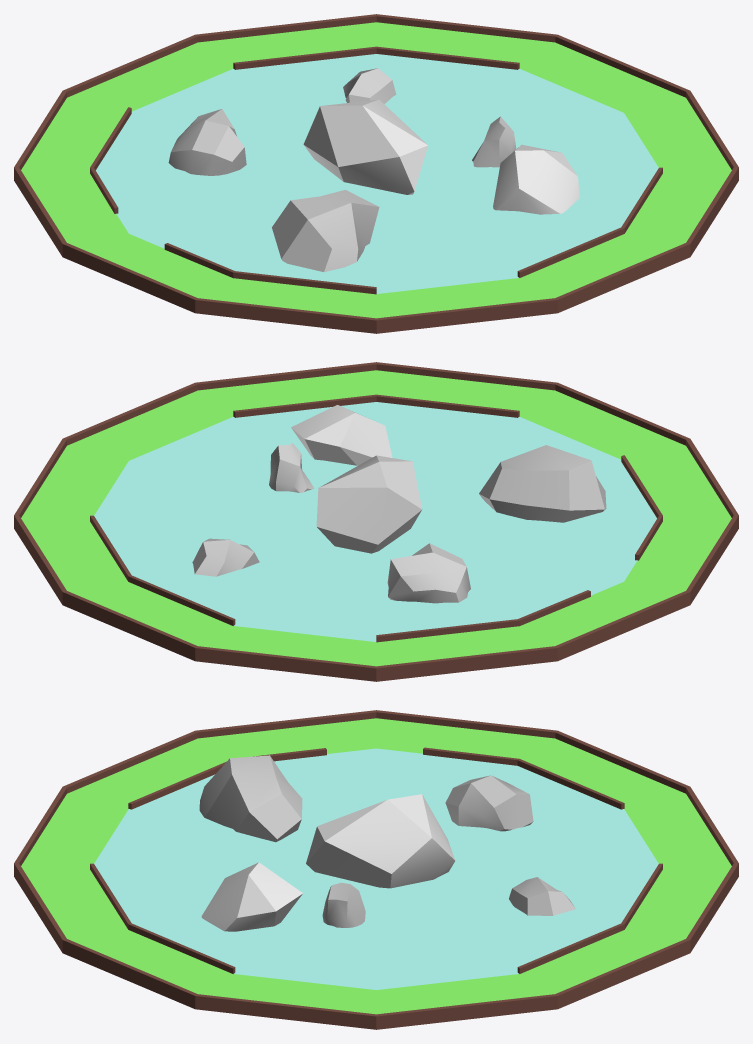
3 renders of one model, top to bottom at view 1: azimuth 30°, elevation 25°; view 2: azimuth 150°, elevation 25°; view 3: azimuth 270°, elevation 25°, orthographic.
Visible parts, largest first — view 1: Cylinder.042, Cylinder.041, Cylinder.043, rock.328, rock.327, Cylinder.044, rock.324, rock.326, rock.325, rock.323; view 2: Cylinder.042, Cylinder.041, Cylinder.043, rock.328, rock.327, Cylinder.044, rock.324, rock.326, rock.323, rock.325; view 3: Cylinder.042, Cylinder.041, Cylinder.043, rock.328, rock.327, Cylinder.044, rock.324, rock.326, rock.323, rock.325.
Boxes of the visible parts, bbox=[...] form: Cylinder.042: bbox=[96, 54, 658, 293]; Cylinder.041: bbox=[21, 22, 731, 318]; Cylinder.043: bbox=[14, 14, 738, 333]; rock.328: bbox=[303, 99, 427, 194]; rock.327: bbox=[272, 190, 379, 271]; Cylinder.044: bbox=[90, 46, 662, 294]; rock.324: bbox=[493, 144, 579, 214]; rock.326: bbox=[168, 109, 246, 175]; rock.325: bbox=[472, 116, 516, 167]; rock.323: bbox=[343, 68, 396, 103]; Cylinder.042: bbox=[94, 402, 656, 641]; Cylinder.041: bbox=[21, 370, 731, 666]; Cylinder.043: bbox=[14, 362, 738, 681]; rock.328: bbox=[316, 455, 422, 553]; rock.327: bbox=[479, 445, 606, 522]; Cylinder.044: bbox=[90, 394, 662, 642]; rock.324: bbox=[291, 405, 392, 465]; rock.326: bbox=[387, 543, 470, 603]; rock.323: bbox=[192, 538, 259, 576]; rock.325: bbox=[269, 443, 314, 492]; Cylinder.042: bbox=[94, 748, 658, 989]; Cylinder.041: bbox=[21, 718, 731, 1014]; Cylinder.043: bbox=[14, 710, 738, 1029]; rock.328: bbox=[306, 794, 455, 888]; rock.327: bbox=[199, 755, 302, 842]; Cylinder.044: bbox=[90, 747, 662, 973]; rock.324: bbox=[201, 862, 302, 931]; rock.326: bbox=[445, 775, 533, 831]; rock.323: bbox=[509, 877, 575, 915]; rock.325: bbox=[322, 882, 365, 927].
Size of the model in its own units: 2029 by 376 by 2029.
